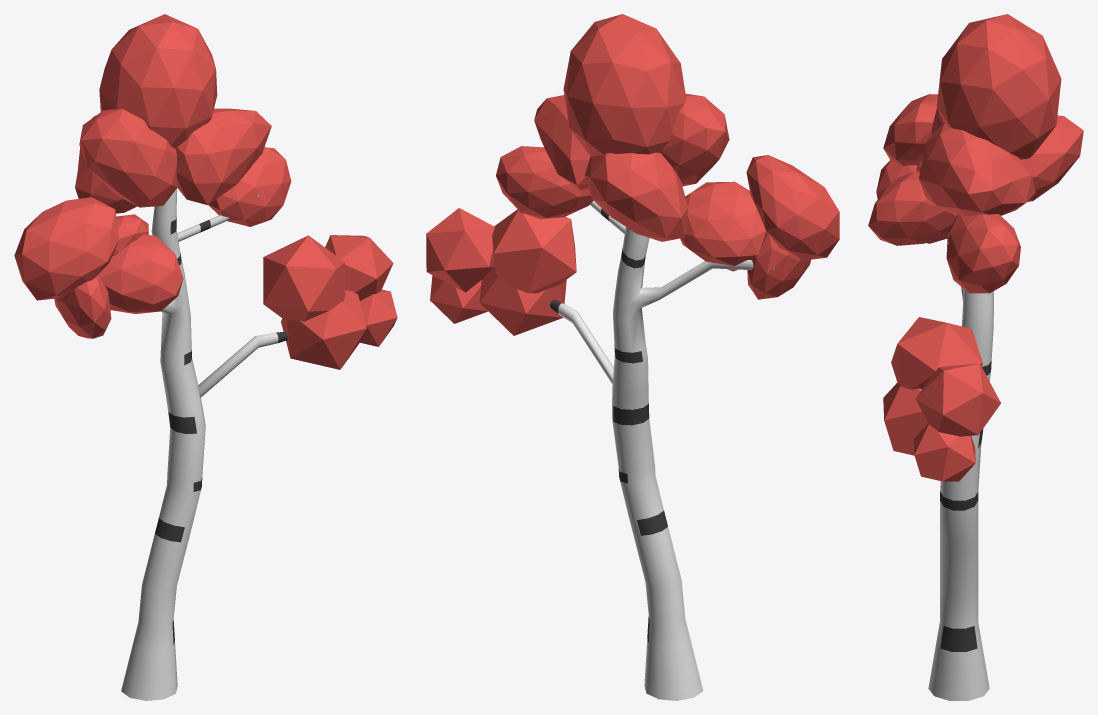
File: white_tree_1.fbx
3 views of the same model, side by side, from view 1: azimuth 30°, elevation 25°; view 2: azimuth 150°, elevation 25°; view 3: azimuth 270°, elevation 25° (orthographic). The views are drawn at different scales.
Parts seen in each view (by area): view 1: Icosphere.016; view 2: Icosphere.016; view 3: Icosphere.016.
Part boxes in pixels (x1,y1,x2,y2): Icosphere.016: [14, 14, 397, 700]; Icosphere.016: [426, 14, 839, 700]; Icosphere.016: [868, 14, 1083, 700].
Bounding box in the file's own units: 377 × 615 × 175.
